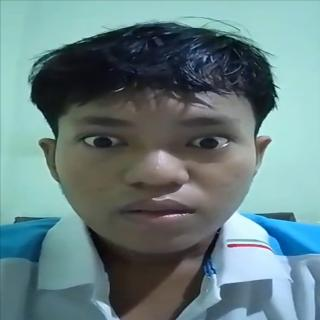Takut: (47, 44, 272, 260)
